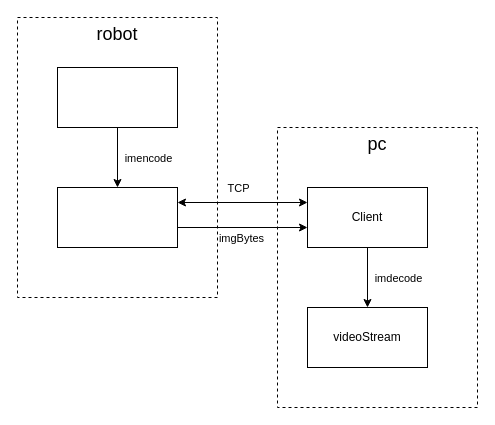
The diagram is 495 pixels wide and 425 high, and some of its shapes have lost their labels. The centre of each missing label's shape, as x and y in pixels:
camera: the point at 117,97
Server: the point at 117,217
